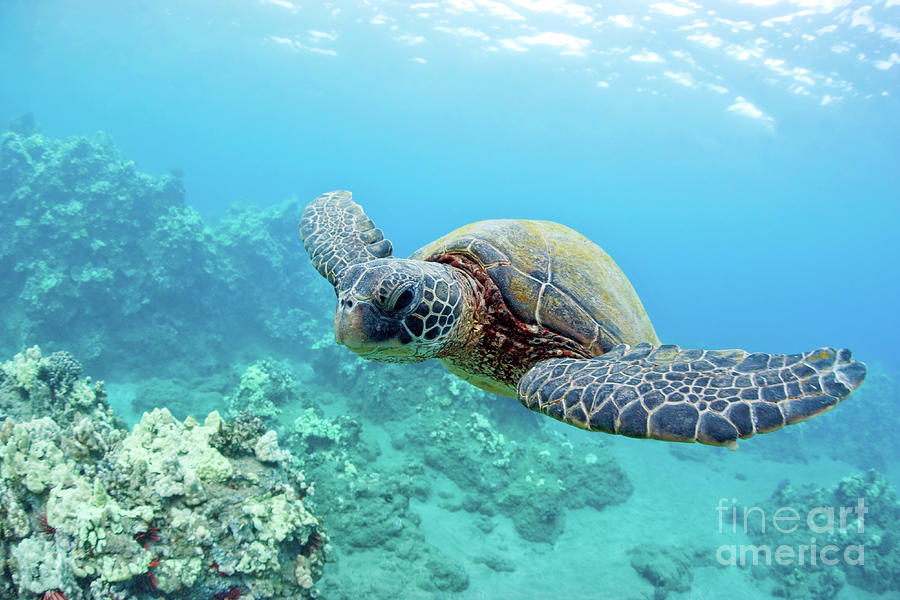turtle: (297, 185, 869, 449)
